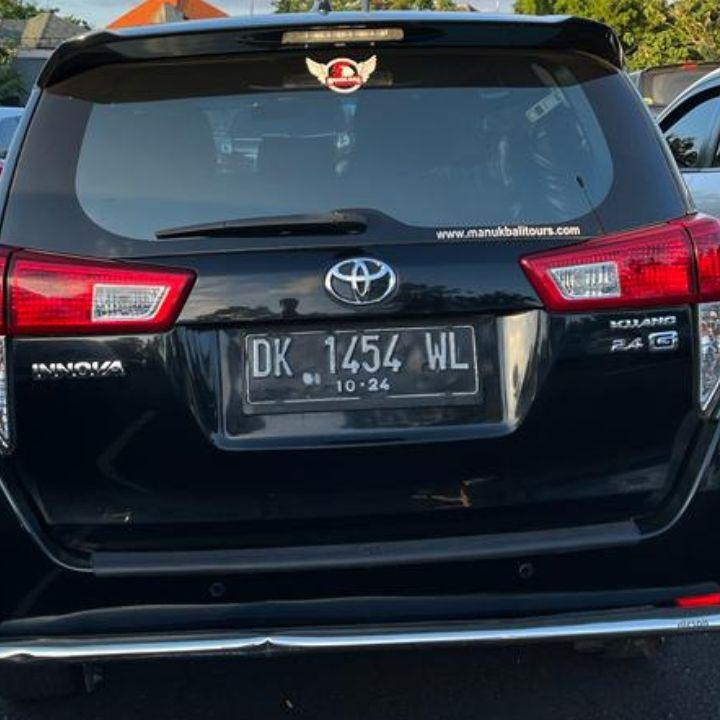plat: (246, 325, 480, 409)
